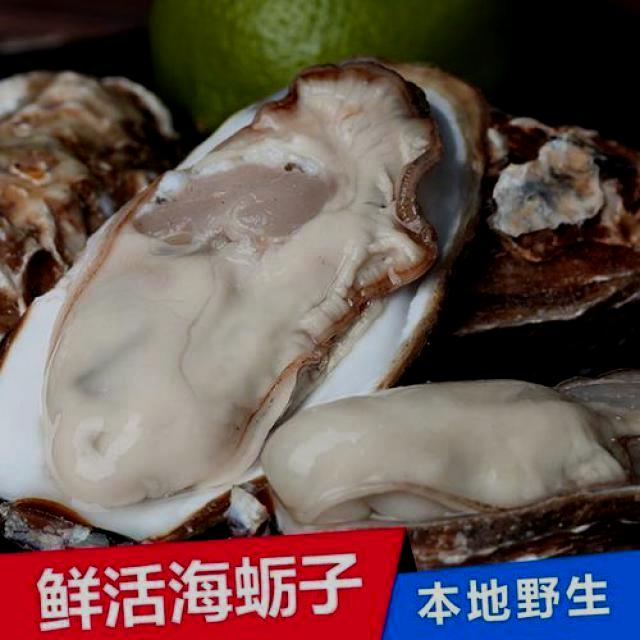Oyster-Closed: (0, 70, 182, 350)
Oyster-Open: (0, 52, 485, 548), (258, 373, 640, 572)
